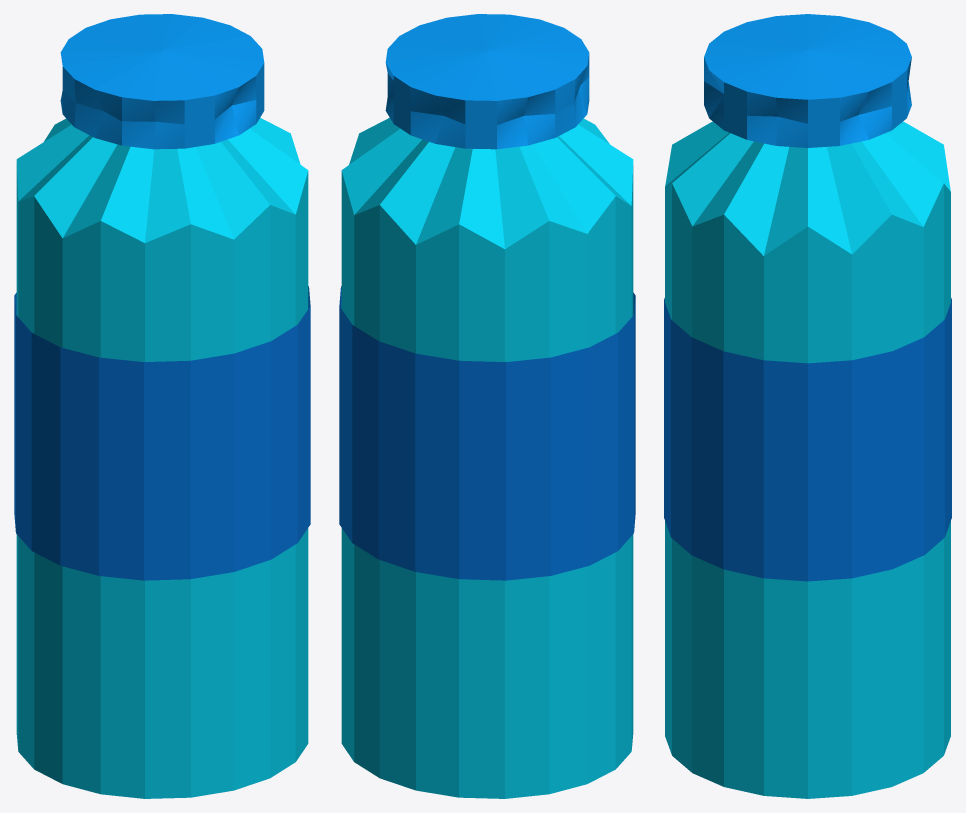
3 renders of one model, left to right at view 1: azimuth 30°, elevation 25°; view 2: azimuth 150°, elevation 25°; view 3: azimuth 270°, elevation 25°, orthographic.
Parts seen in each view (by area): view 1: Cilindro (×2), Tapadera; view 2: Cilindro (×2), Tapadera; view 3: Cilindro (×2), Tapadera.
Boxes of the visible parts, box(x1,y1,x2,y2) form: Cilindro (×2): box(14, 117, 310, 798); Tapadera: box(60, 14, 264, 149); Cilindro (×2): box(339, 117, 635, 798); Tapadera: box(385, 14, 589, 149); Cilindro (×2): box(664, 121, 951, 798); Tapadera: box(704, 14, 911, 147).
Bounding box in the file's own units: 0.426 × 1.07 × 0.4071.
